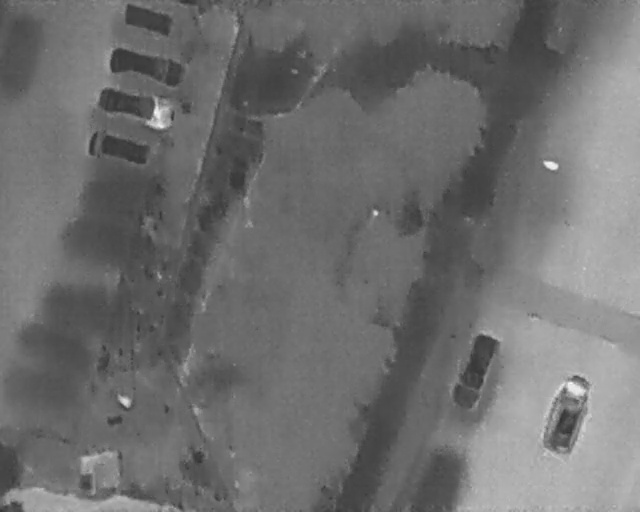Car: (443, 325, 507, 415), (536, 367, 598, 459), (93, 82, 177, 133), (105, 42, 187, 89), (86, 126, 156, 169)
